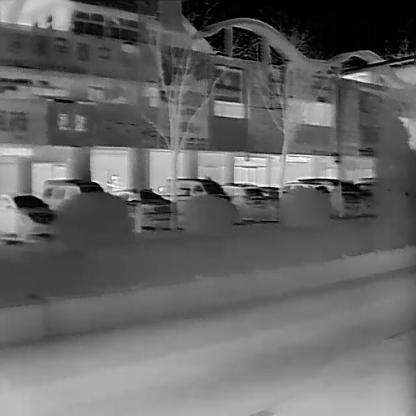car: (0, 193, 58, 242), (108, 187, 169, 230), (40, 178, 104, 216), (160, 177, 231, 204), (281, 177, 361, 198), (219, 182, 266, 211), (352, 176, 373, 197)
